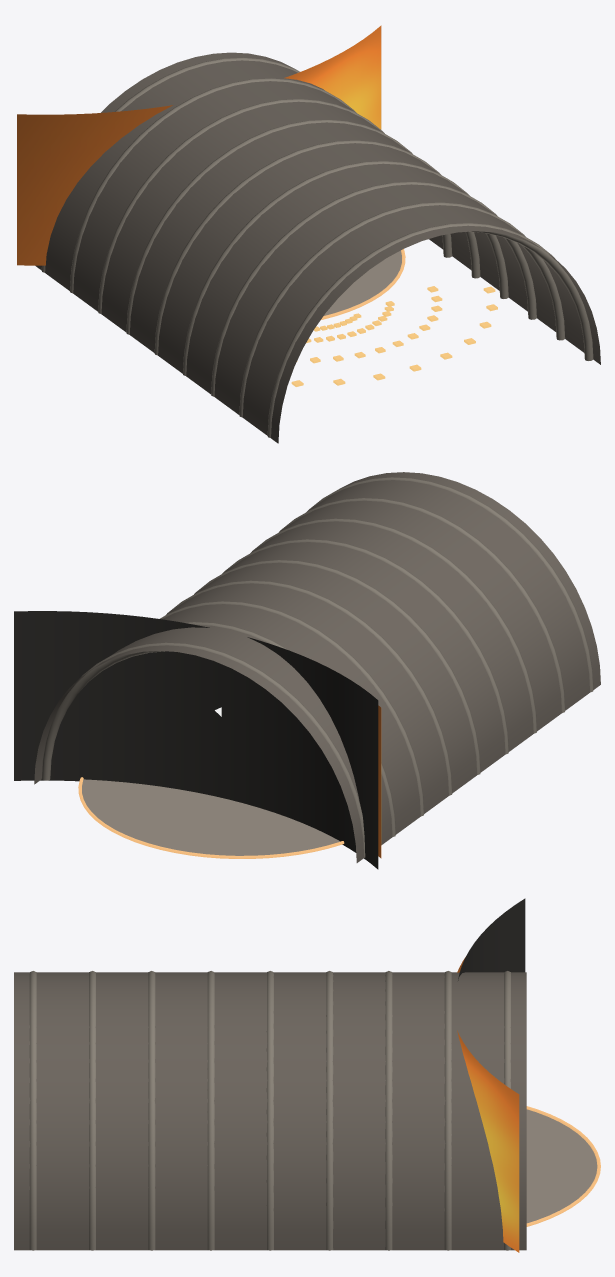
File: estudio-domo-v1.glb
3 views of the same model, one above another, from view 1: azimuth 30°, elevation 25°; view 2: azimuth 150°, elevation 25°; view 3: azimuth 270°, elevation 25° (orthographic). The views are drawn at different scales.
Visible parts, largest first — view 1: Shell, Ribs, VideoWall, LucesPiso, StageTop; view 2: Shell, Bezel, Ribs, StageTop, StageRing, VideoWall; view 3: Shell, Ribs, StageTop, VideoWall, Bezel, StageRing.
Boxes of the visible parts, x1,y1,x2,y2 form: Shell: (35,52,600,443); Ribs: (41,58,593,437); VideoWall: (17,25,381,265); LucesPiso: (291,286,497,386); StageTop: (324,250,401,315); Shell: (34,472,600,862); Bezel: (14,611,378,869); Ribs: (41,477,593,857); StageTop: (82,779,340,855); StageRing: (78,777,344,858); VideoWall: (378,705,381,858); Shell: (14,972,526,1250); Ribs: (29,971,510,1250); StageTop: (526,1109,597,1223); VideoWall: (457,957,519,1252); Bezel: (458,898,525,980); StageRing: (526,1106,600,1226).
Size of what is drawn, in the model's own units: 6.89 by 3.11 by 9.16.
8 materials, 1 textured.
